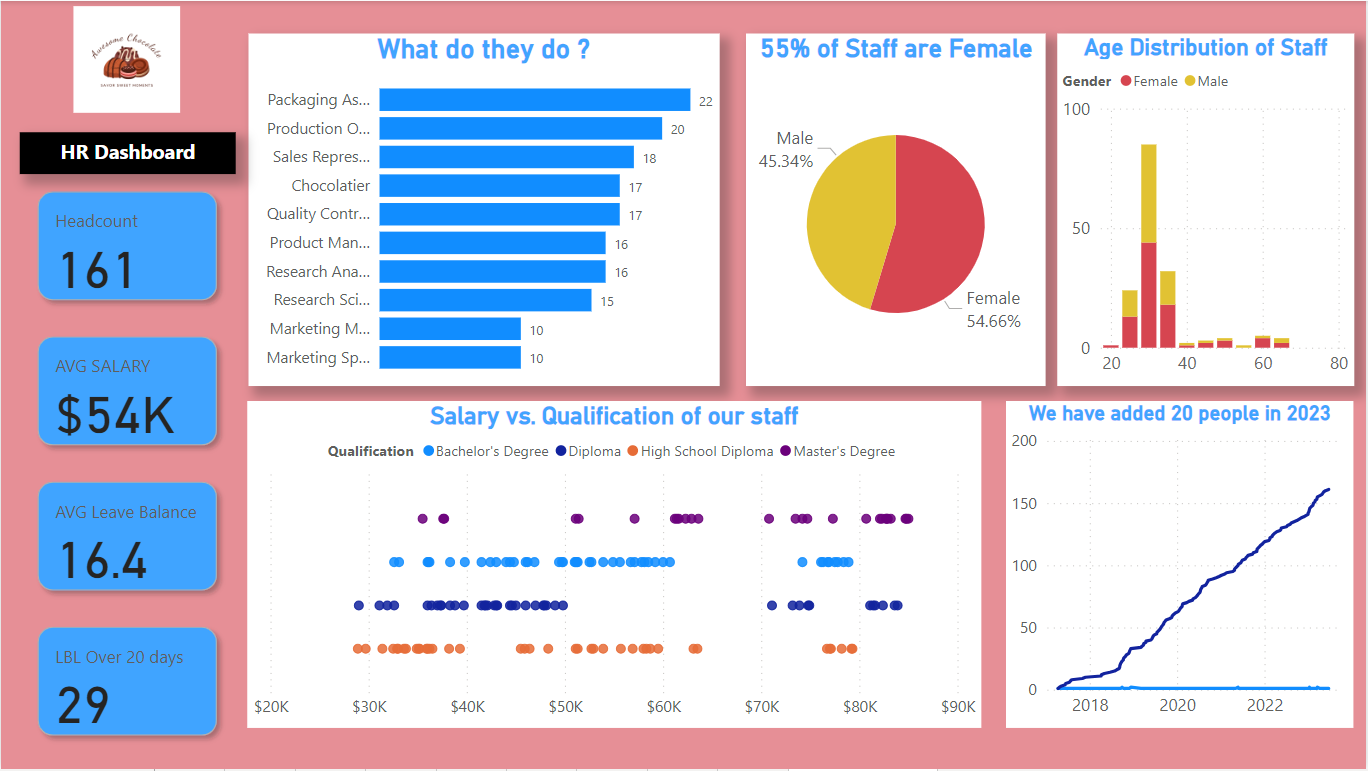

The dashboard page shown, as its layout file describes it:
{"tool":"powerbi","page":{"name":"HR Dashboard","canvas":[1280,720],"ordinal":9},"visuals":[{"type":"cardVisual","fields":{"Data":["Staffs.Headcount","Staffs.AVG SALARY","Staffs.AVG Leave Balance","Staffs.LBL Over 20 days"]},"box":[17.6,162.2,202.7,544.6],"z":0},{"type":"clusteredBarChart","title":"What do they do ?","fields":{"Category":["Staffs.Job Title"],"Y":["Staffs.Headcount"]},"box":[231.7,30.2,441.5,330.4],"z":1000},{"type":"pieChart","title":"55% of Staff are Female","fields":{"Y":["Staffs.Headcount"],"Category":["Staffs.Gender"]},"box":[697.9,30.2,281.1,330.4],"z":2000},{"type":"columnChart","title":"Age Distribution of Staff","fields":{"Category":["Staffs.Age (bins)"],"Y":["Staffs.Headcount"],"Series":["Staffs.Gender"]},"box":[989.9,30.2,278.3,330.4],"z":3000},{"type":"scatterChart","title":"Salary vs. Qualification of our staff","fields":{"X":["Staffs.Salary"],"Y":["Qual.Qualification ID"],"Series":["Qual.Qualification"]},"box":[231.1,374.3,687.8,306.8],"z":3001},{"type":"textbox","box":[17.6,123,202.7,39.2],"z":3002},{"type":"lineChart","title":"We have added 20 people in 2023","fields":{"Y":["Staffs.Headcount","Staffs.Cumulative Headcount"],"Category":["Staffs.Date of Join"]},"box":[941.9,374.3,325.7,306.8],"z":3003},{"type":"image","box":[37.8,0,160.8,109.5],"z":3004}]}

Visuals, with their boxes in screenshot pixels (x1, y1, x2, y2), scaled from the page's 1280x720 canvas onto the 1368x771 screenshot:
cardVisual - Staffs.Headcount x Staffs.AVG SALARY: (x1=19, y1=174, x2=235, y2=757)
"What do they do ?" clusteredBarChart: (x1=248, y1=32, x2=719, y2=386)
"55% of Staff are Female" pieChart: (x1=746, y1=32, x2=1046, y2=386)
"Age Distribution of Staff" columnChart: (x1=1058, y1=32, x2=1355, y2=386)
"Salary vs. Qualification of our staff" scatterChart: (x1=247, y1=401, x2=982, y2=729)
textbox: (x1=19, y1=132, x2=235, y2=174)
"We have added 20 people in 2023" lineChart: (x1=1007, y1=401, x2=1355, y2=729)
image: (x1=40, y1=0, x2=212, y2=117)
